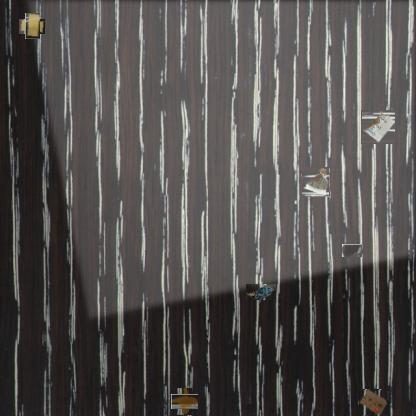dirty: (362, 110, 396, 144), (300, 168, 330, 196), (358, 389, 386, 415), (246, 284, 276, 300), (22, 16, 43, 37)
liquid: (174, 391, 195, 412), (342, 244, 362, 257)
